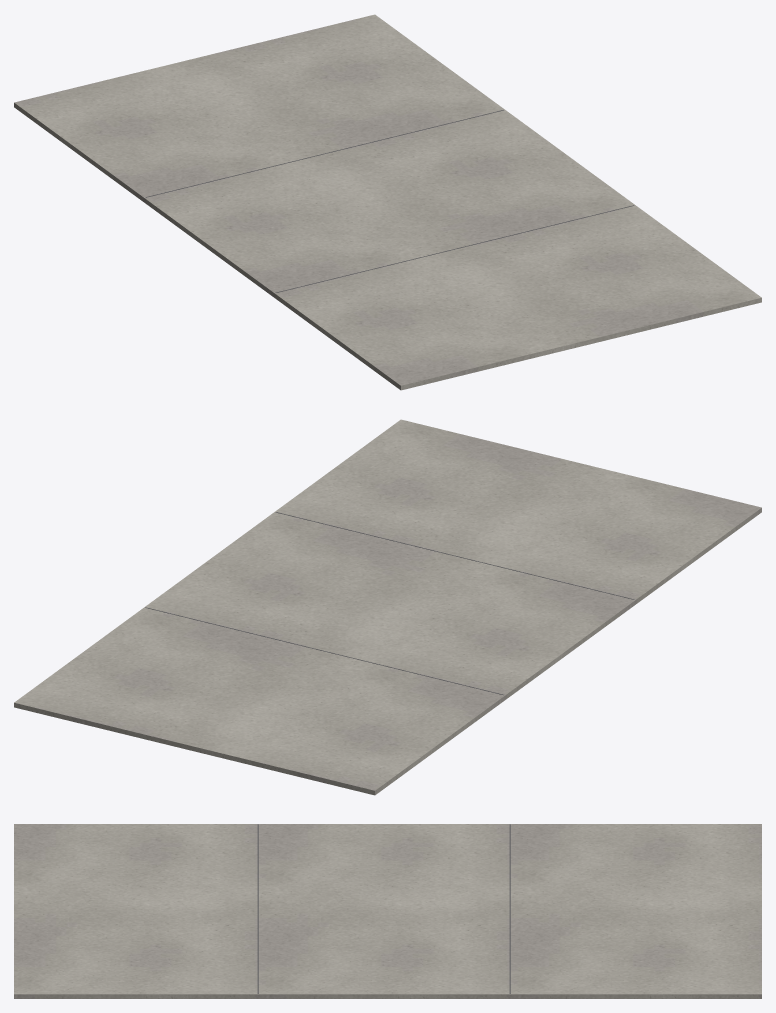
File: drive.glb
3 renders of one model, top to bottom at view 1: azimuth 30°, elevation 25°; view 2: azimuth 150°, elevation 25°; view 3: azimuth 270°, elevation 25°, orthographic. The views are drawn at different scales.
Visible parts, largest first — view 1: drive_concrete, drive_dark; view 2: drive_concrete, drive_dark; view 3: drive_concrete, drive_dark.
Boxes of the visible parts, <box> form: drive_concrete: <box>14,14,761,390</box>; drive_dark: <box>145,110,634,292</box>; drive_concrete: <box>14,419,761,795</box>; drive_dark: <box>145,512,634,695</box>; drive_concrete: <box>14,824,761,998</box>; drive_dark: <box>257,824,510,993</box>.
Size of the model in its own units: 3.2 by 0.041 by 5.94.
Materials: 2 (1 with a texture image).
